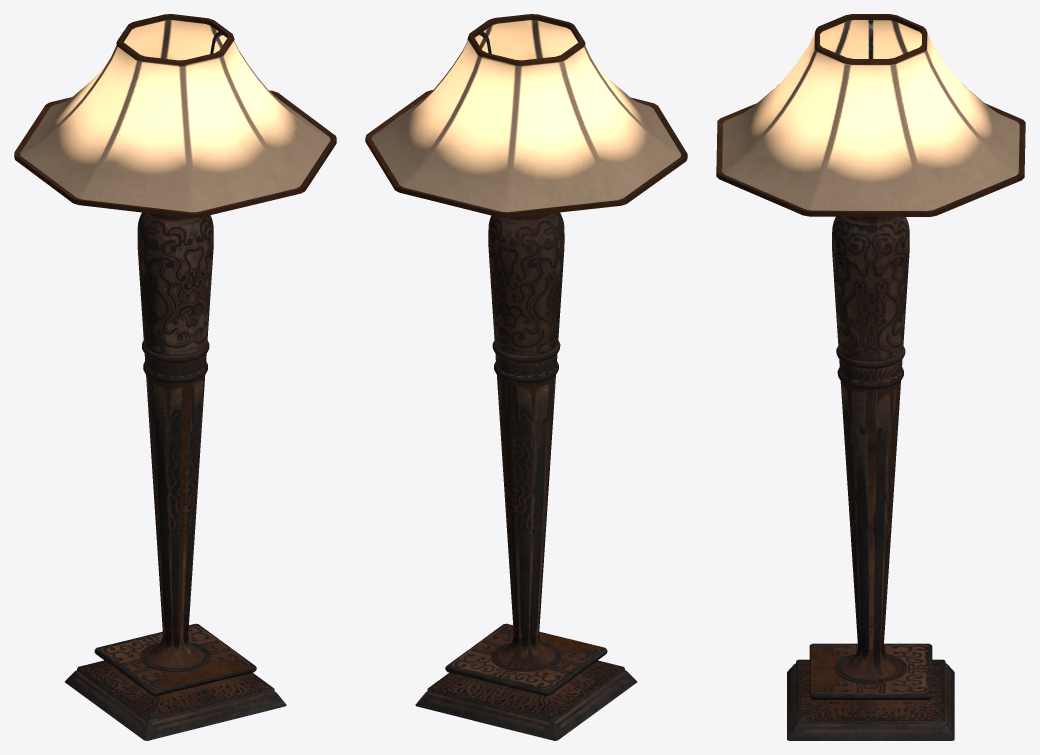
Rendered from nice_lamp__free_download.glb.
The picture shows the model from 3 angles, left to right: view 1: azimuth 30°, elevation 25°; view 2: azimuth 150°, elevation 25°; view 3: azimuth 270°, elevation 25°; orthographic projection. The views are drawn at different scales.
Parts seen in each view (by area): view 1: TallLamp; view 2: TallLamp; view 3: TallLamp.
Part boxes in pixels (left/top/right/bottom): TallLamp: left=14, top=14, right=336, bottom=740; TallLamp: left=365, top=14, right=687, bottom=740; TallLamp: left=716, top=14, right=1025, bottom=740.
Bounding box in the file's own units: 45.48 × 109 × 45.48.
Materials: 1 (1 with a texture image).
